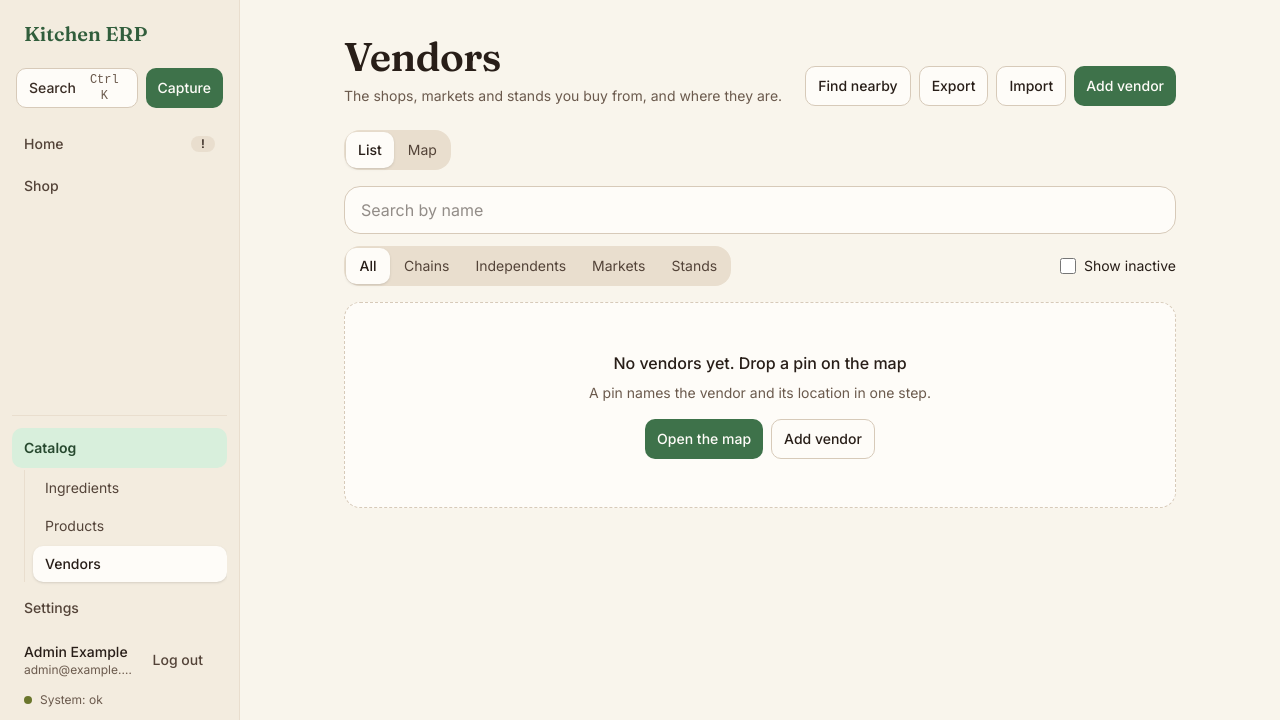
vendors › creates a vendor with a kind and price scope
The width and height of the screenshot is (1280, 720).
Check: the heading "Vendors" is shown, box [344,32,501,81]
Click the 1st button "Add vendor". click: (1125, 86)
box: [1074,66,1176,106]
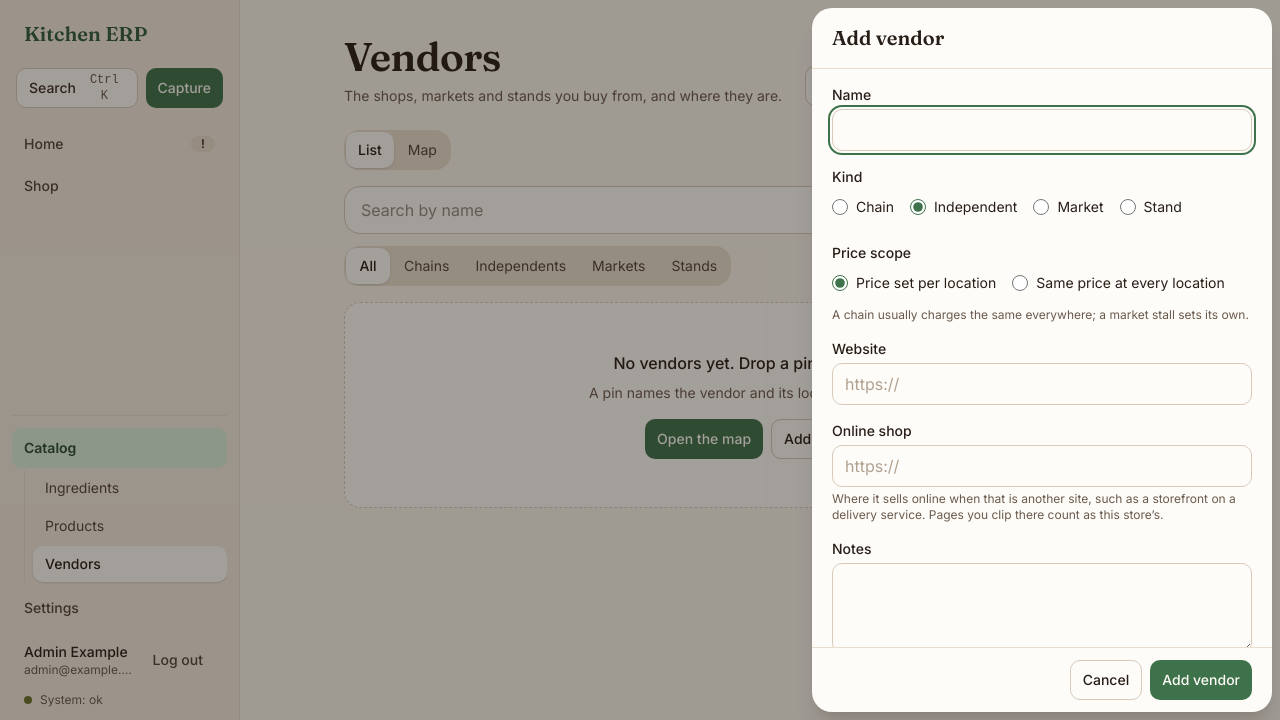
Check: the dialog "Add vendor" is shown, box [812,8,1272,712]
Type "Riverbend Grocers" into the field labelled "Name". click: (1042, 130)
box: [832,109,1252,151]
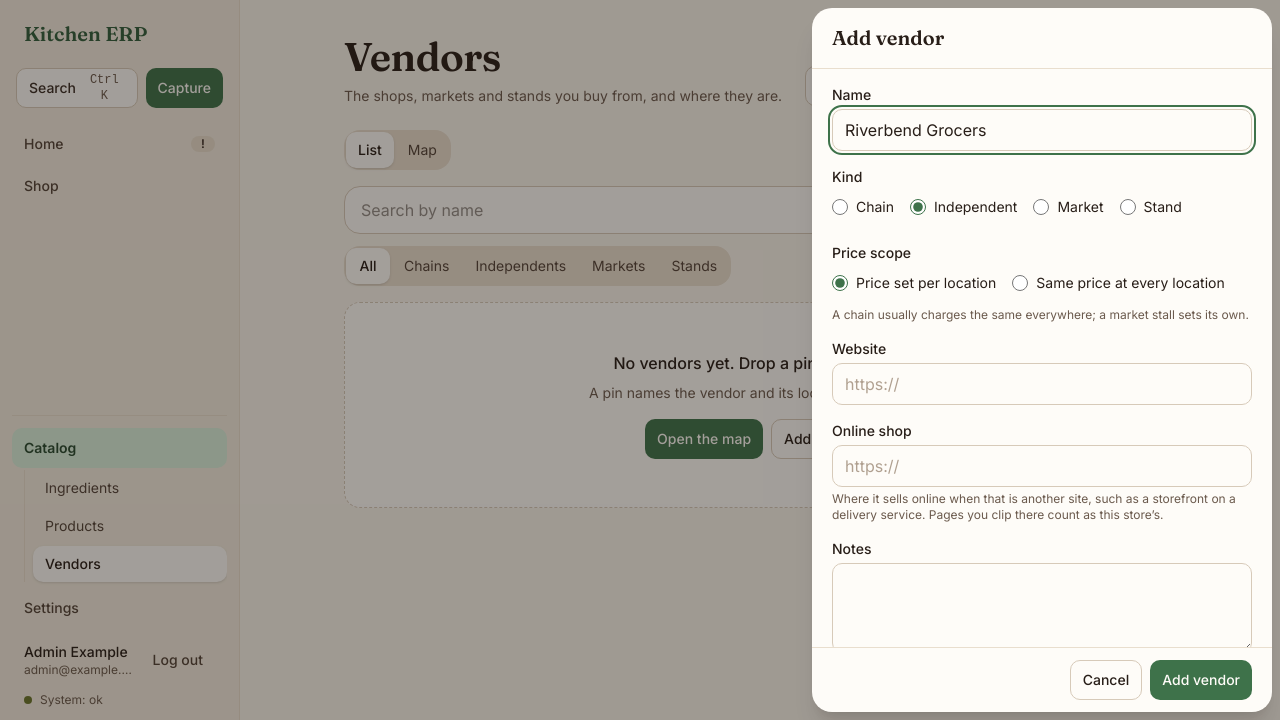
Click the radio button labelled "Chain". click: (840, 207)
box: [832,199,848,215]
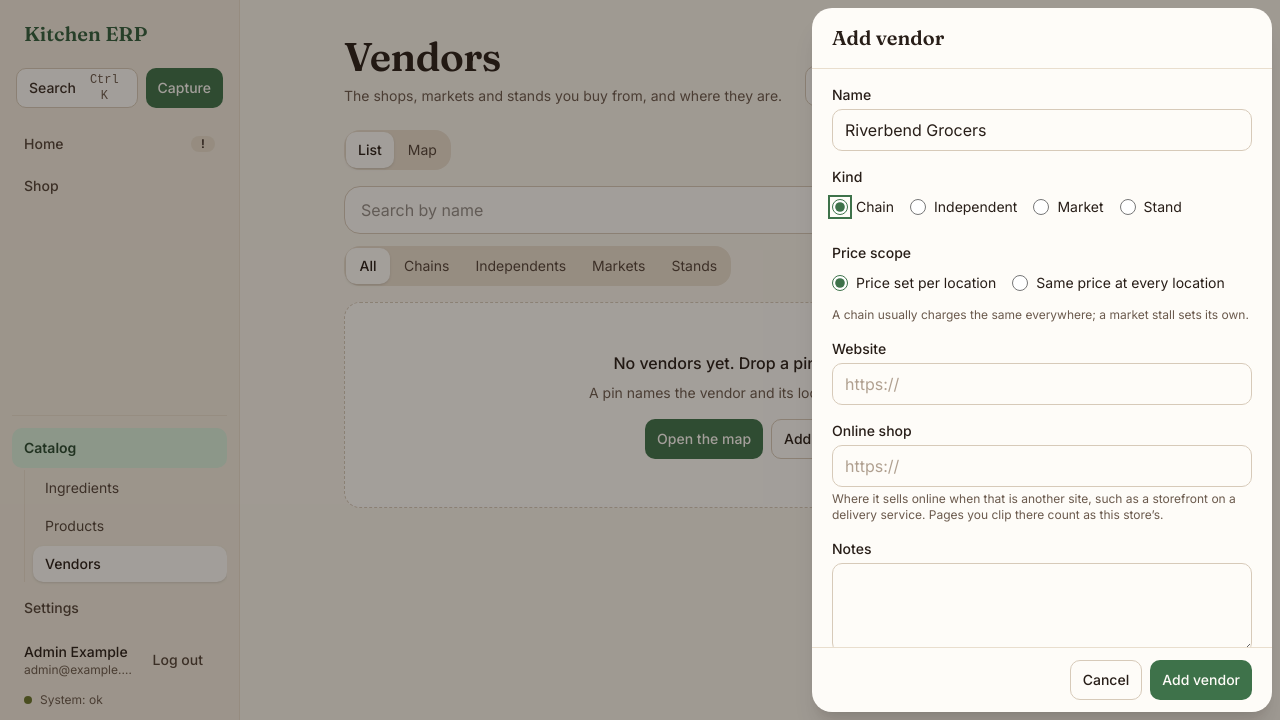
Click the radio button labelled "Same price at every location". click: (1020, 283)
box: [1012,275,1028,291]
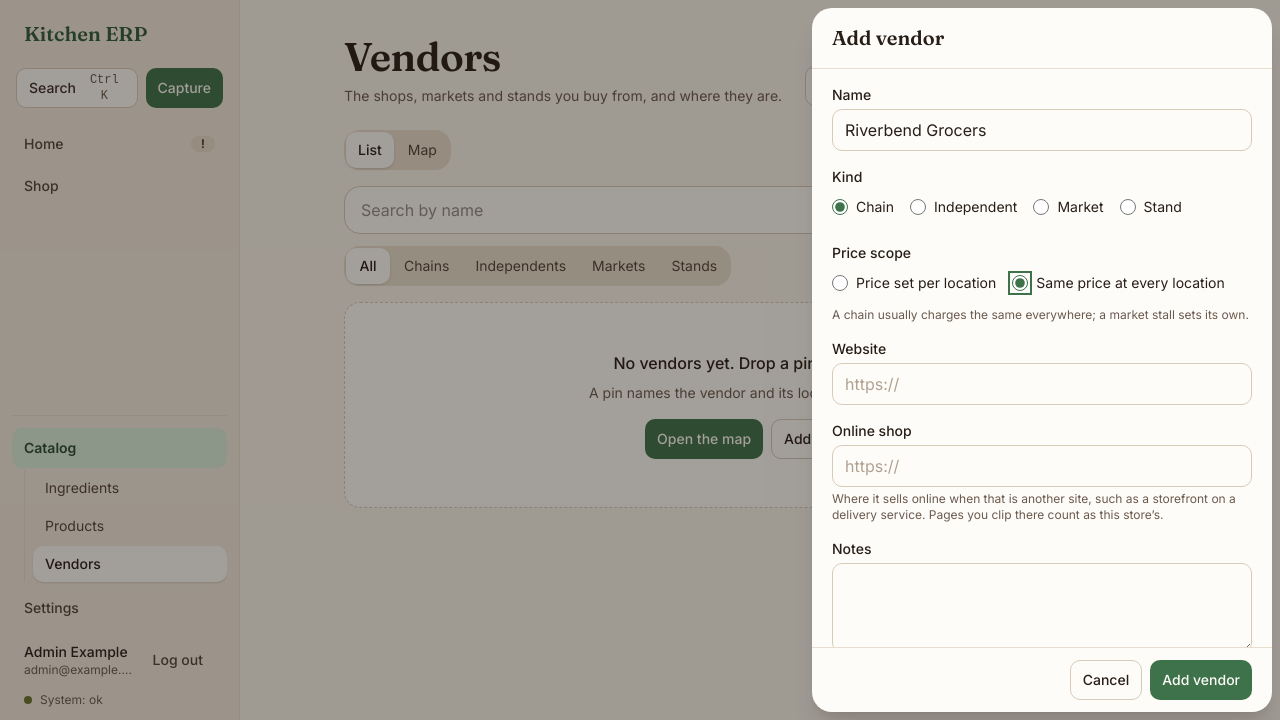
Click the button "Add vendor". click: (1201, 680)
box: [1150,660,1252,700]
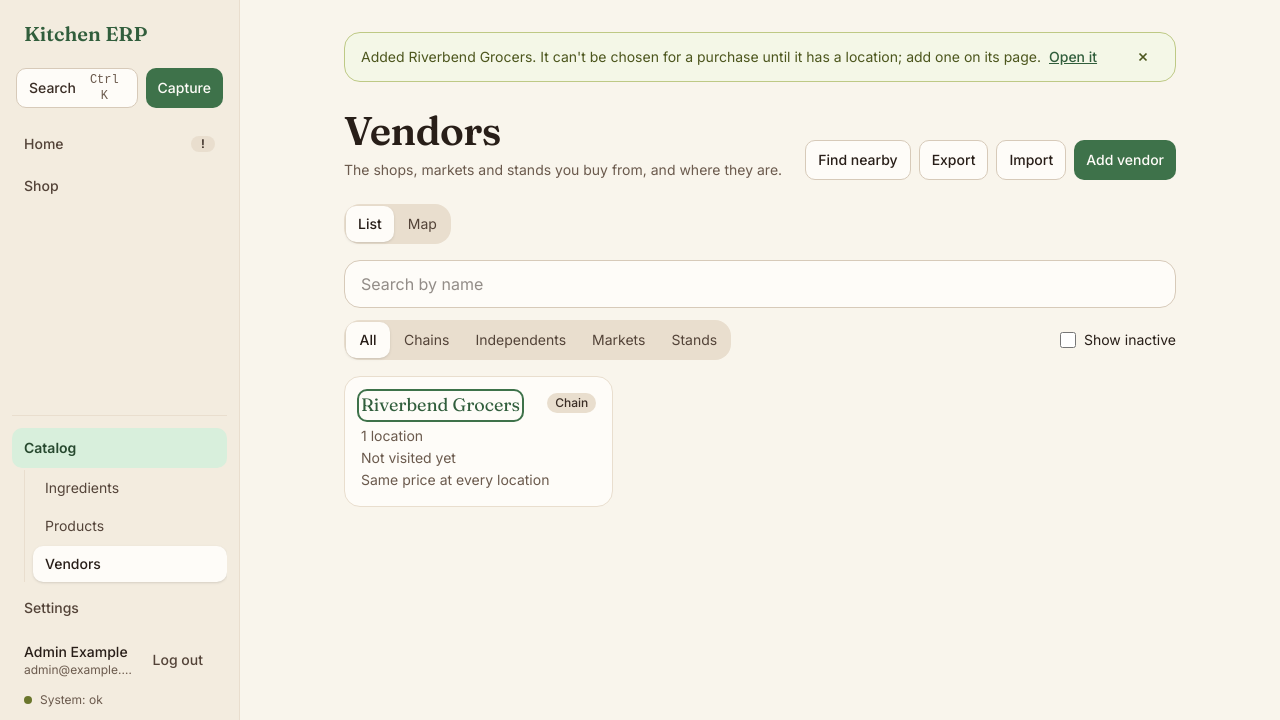
Check: the message with test id "notice" shows "until it has a location", box [361,48,1041,65]
